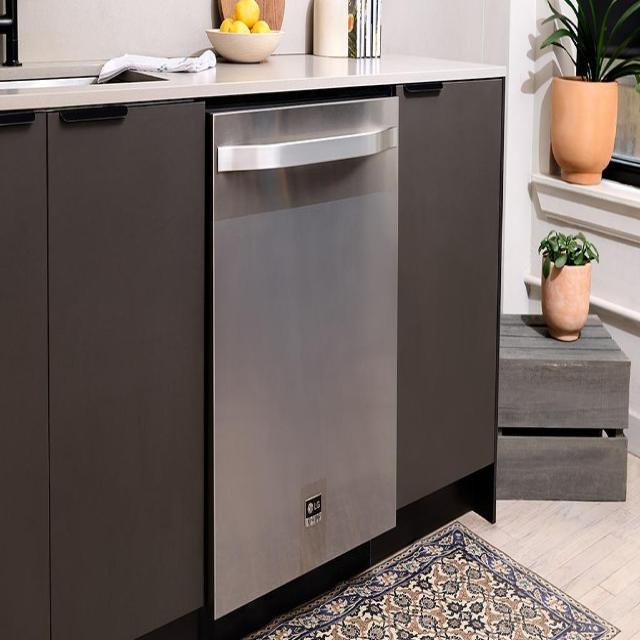dishwasher: (206, 91, 404, 622)
